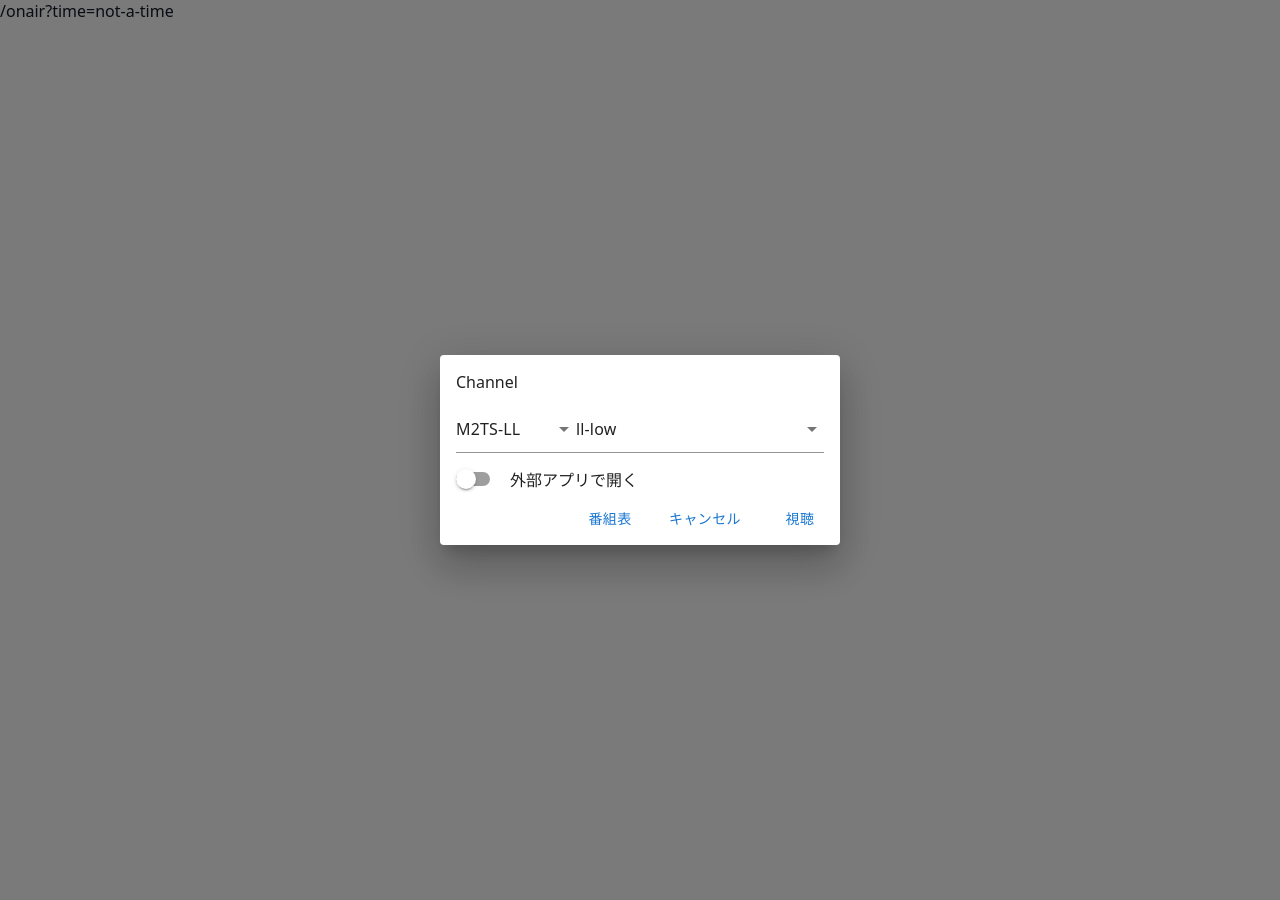
Scenario: LiveStreamSelectDialog guide navigation › [AC 3.20] navigates to the guide with only channelId when the current route has no valid time
Click the button "番組表": (610,519) [578,501,642,537]
Wait 300 ms
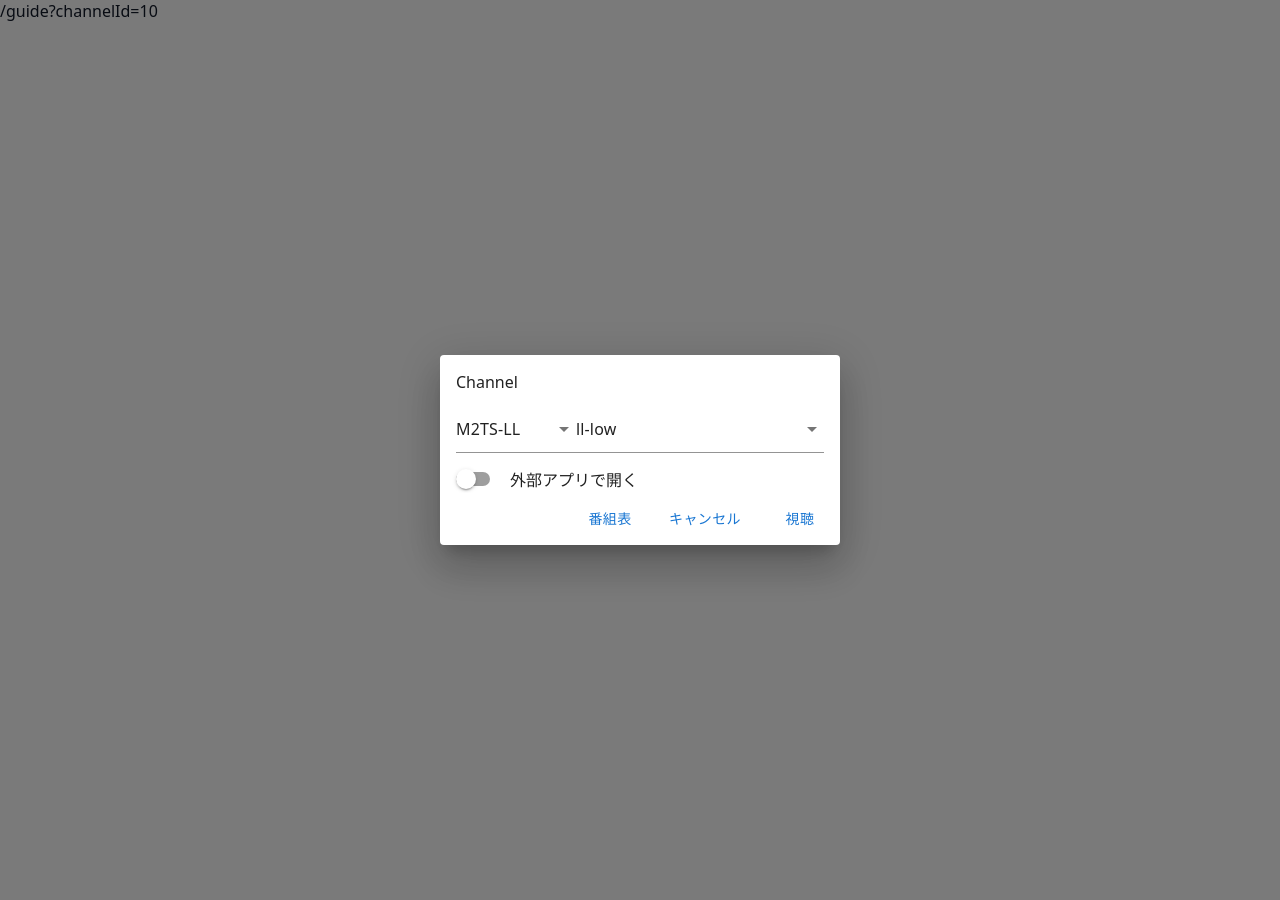
expect the text with test id "location-display" reads "/guide?channelId=10": met, box [0,0,158,22]
